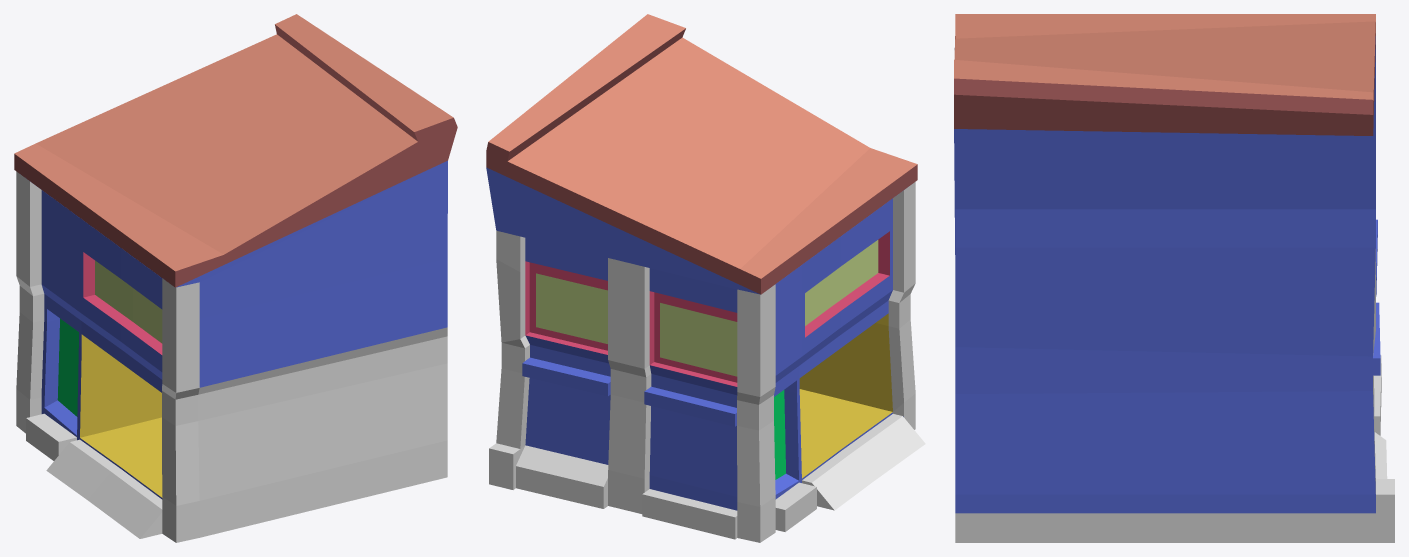
The model's file is Modelo TOON Casinha Telhado 2.fbx.
The picture shows the model from 3 angles, left to right: view 1: azimuth 30°, elevation 25°; view 2: azimuth 150°, elevation 25°; view 3: azimuth 270°, elevation 25°; orthographic projection. The views are drawn at different scales.
Visible parts, largest first — view 1: Cube; view 2: Cube; view 3: Cube.
Boxes of the visible parts, x1,y1,x2,y2 form: Cube: (14,14,457,542); Cube: (486,14,925,542); Cube: (954,14,1394,542).
Size of the model in its own units: 225 by 252 by 215.
